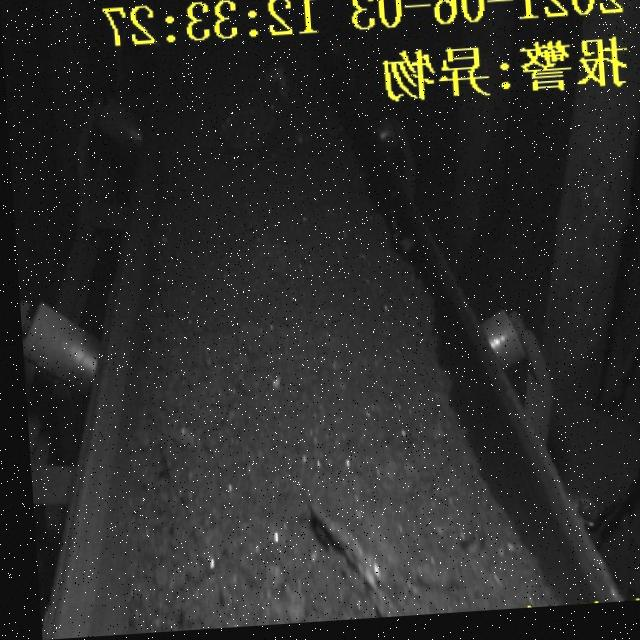bolt: (289, 498, 430, 626)
